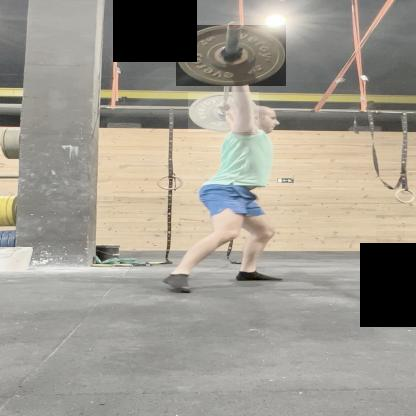barbell: (177, 26, 287, 87), (189, 93, 260, 133)
